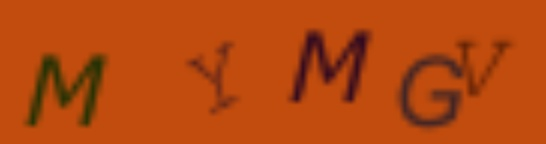G: (394, 52, 462, 130)
M: (22, 49, 109, 132), (285, 25, 374, 104)
V: (459, 34, 513, 100)
Y: (187, 35, 247, 118)
